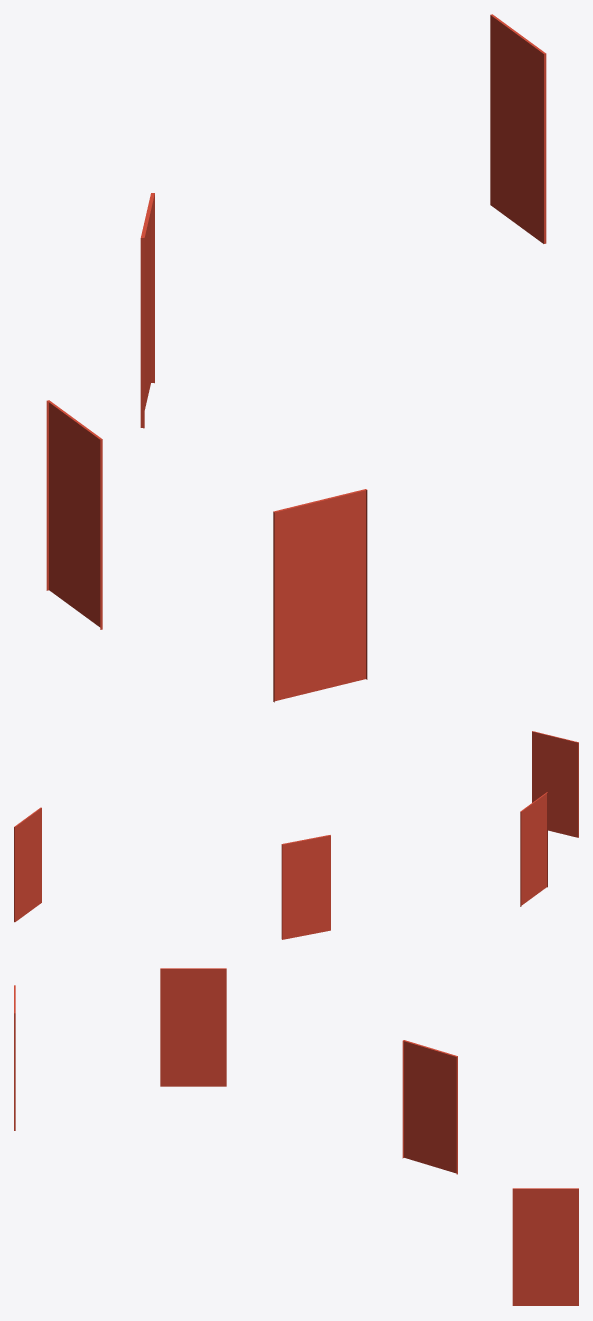
The model's file is doors.fbx.
3 views of the same model, one above another, from view 1: azimuth 30°, elevation 25°; view 2: azimuth 150°, elevation 25°; view 3: azimuth 270°, elevation 25° (orthographic). The views are drawn at different scales.
Parts seen in each view (by area): view 1: doors; view 2: doors; view 3: doors.
Part boxes in pixels (x1,y1,x2,y2): doors: [46, 14, 546, 702]; doors: [14, 731, 578, 939]; doors: [14, 968, 578, 1305].
Bounding box in the file's own units: 804 × 200 × 869.
